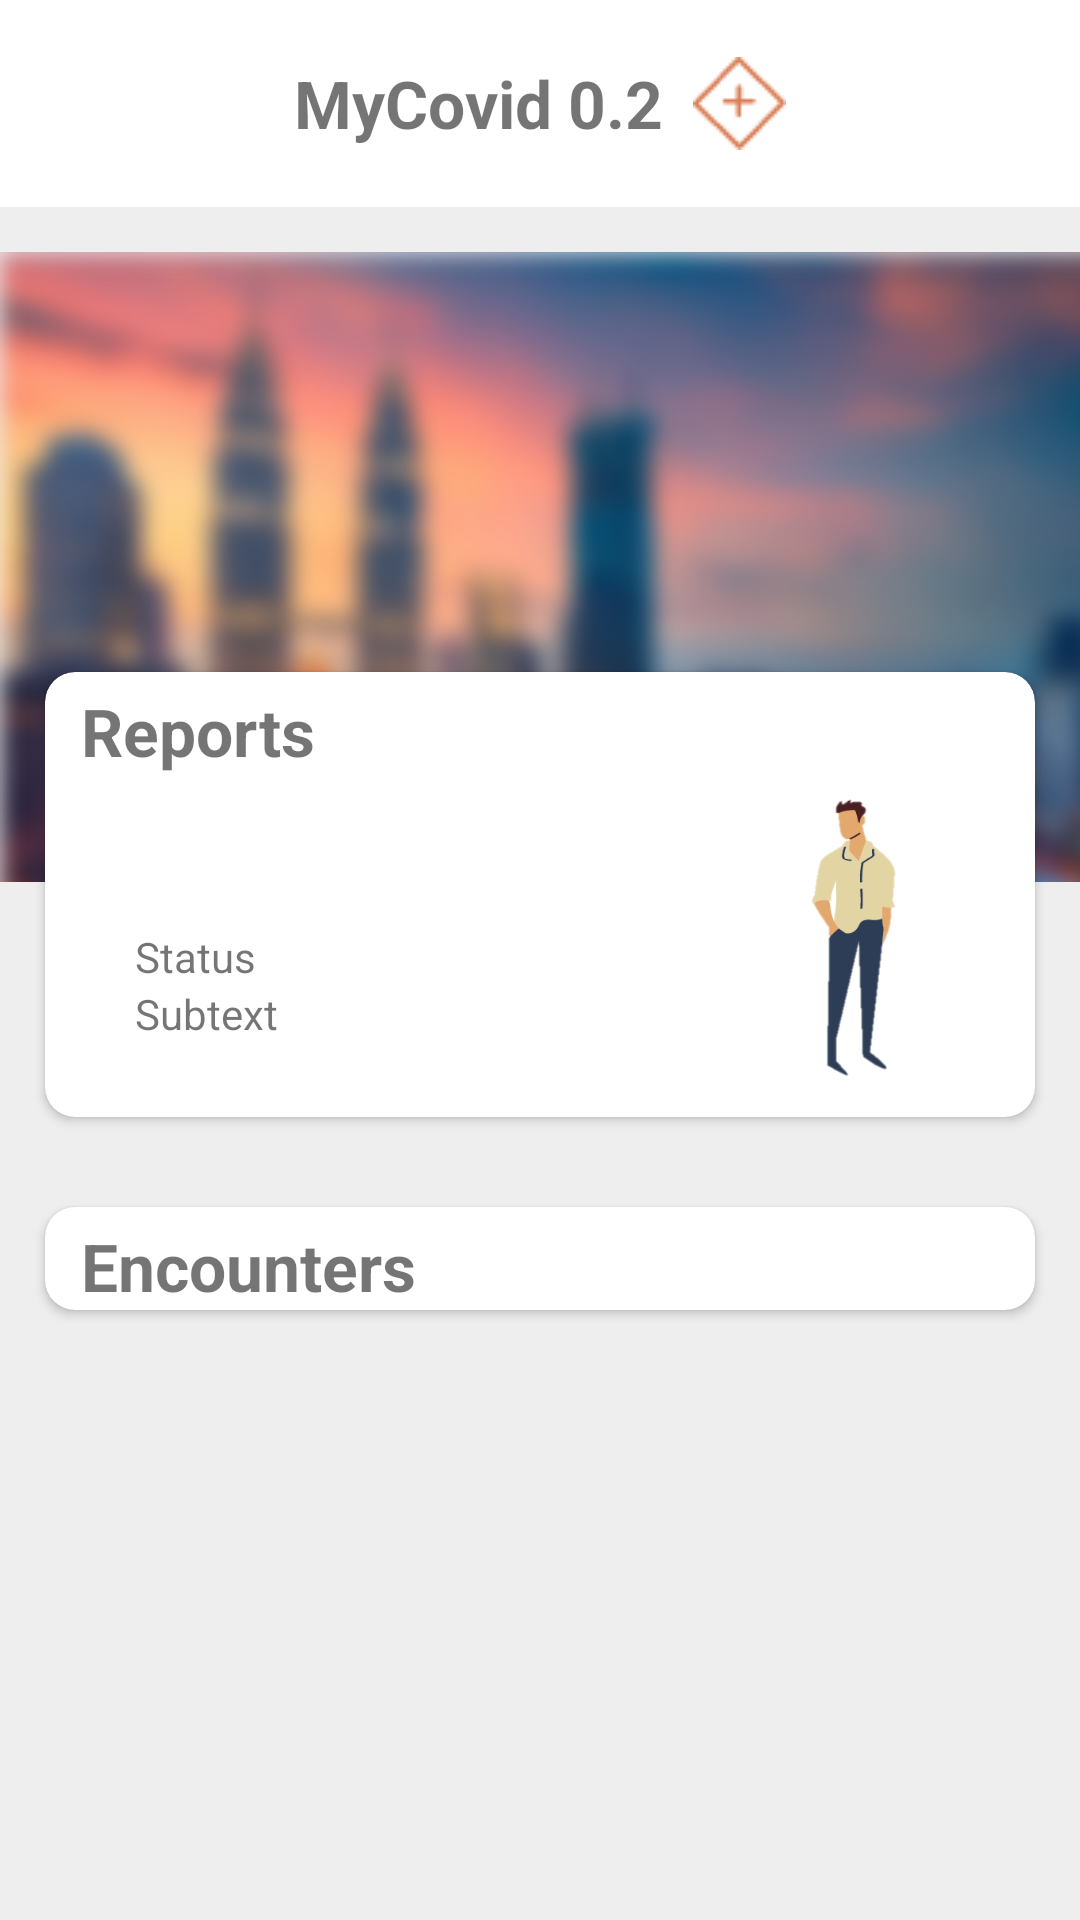

Screen size 1080px x 1920px. Icon name, then its box in pixels as region(x1, y1, x2, y2):
person: region(812, 800, 895, 1076)
